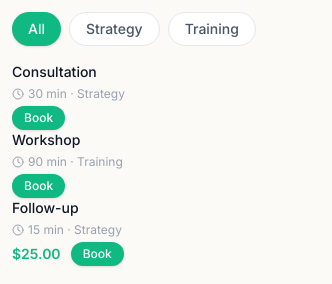
it: ServiceGrid › shows all services again when All pill is clicked after filtering
Click the button "Training".
click(212, 29)  # box [168,12,256,46]
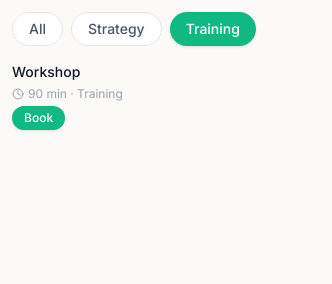
Click the button "All".
click(38, 29)  # box [12,12,63,46]
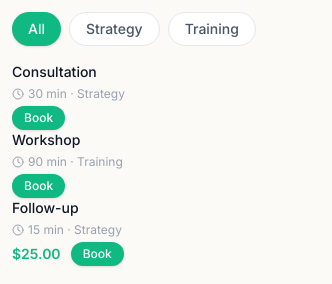
Check: the text "Workshop" is shown, box [12,131,80,148]
Check: the text "Consultation" is shown, box [12,63,97,80]
